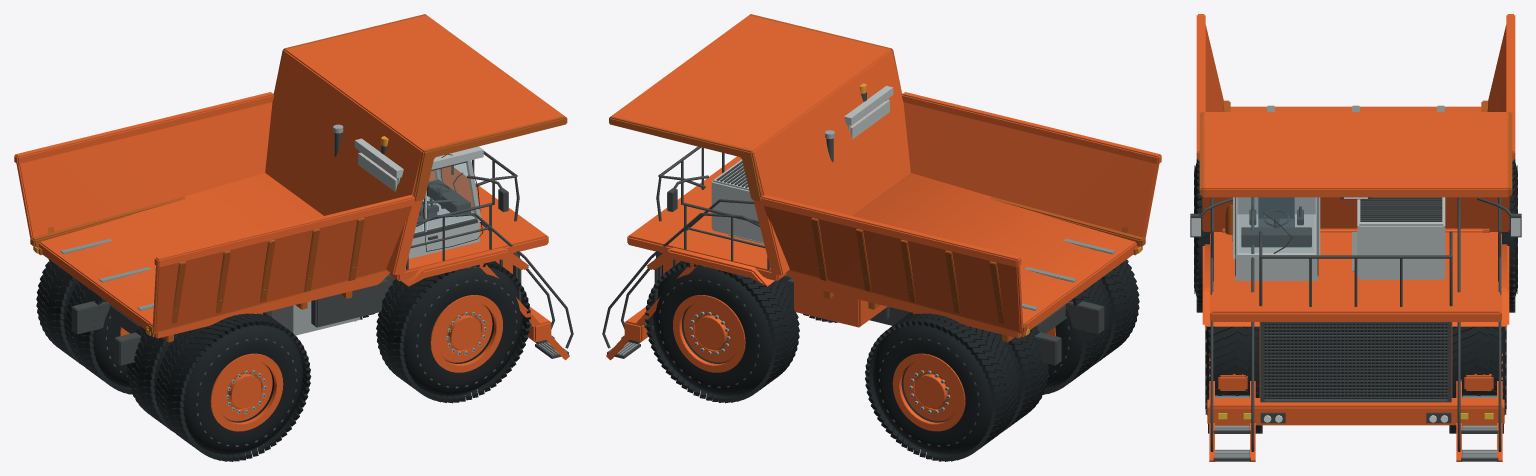
Rendered from truck.glb.
3 renders of one model, left to right at view 1: azimuth 30°, elevation 25°; view 2: azimuth 150°, elevation 25°; view 3: azimuth 270°, elevation 25°, orthographic. The views are drawn at different scales.
Parts seen in each view (by area): view 1: TRUCK / hollow dump body floor sidewalls and overcab canopy, TRUCK / six heavy duty tyre carcasses, TRUCK / 1536 individual chevron tread lugs, TRUCK / deep orange wheel rims and hubs, TRUCK / orange deck bumper and service housings, TRUCK / grey operator cab roof door and seals, TRUCK / front access stairs grated catwalk and grab rails, TRUCK / dump body ribs hinge bosses and wear strips, TRUCK / transparent cab glazing, TRUCK / ladder chassis axles and differential, TRUCK / paired dump lift rams hoses and fluid tanks, TRUCK / operator seat steering pedals and dashboard (+1 smaller); view 2: TRUCK / hollow dump body floor sidewalls and overcab canopy, TRUCK / six heavy duty tyre carcasses, TRUCK / 1536 individual chevron tread lugs, TRUCK / orange deck bumper and service housings, TRUCK / deep orange wheel rims and hubs, TRUCK / front access stairs grated catwalk and grab rails, TRUCK / dump body ribs hinge bosses and wear strips, TRUCK / ladder chassis axles and differential, TRUCK / grey operator cab roof door and seals, TRUCK / mirrors wipers work lamps warning beacons and exting; view 3: TRUCK / hollow dump body floor sidewalls and overcab canopy, TRUCK / orange deck bumper and service housings, TRUCK / radiator grid engine vents and cooling pipes, TRUCK / front access stairs grated catwalk and grab rails, TRUCK / 1536 individual chevron tread lugs, TRUCK / grey operator cab roof door and seals, TRUCK / transparent cab glazing, TRUCK / operator seat steering pedals and dashboard, TRUCK / mirrors wipers work lamps warning beacons and exting, TRUCK / six heavy duty tyre carcasses, TRUCK / dump body ribs hinge bosses and wear strips.
Part boxes in pixels (x1,y1,x2,y2): TRUCK / hollow dump body floor sidewalls and overcab canopy: [14, 14, 567, 338]; TRUCK / six heavy duty tyre carcasses: [51, 267, 522, 454]; TRUCK / 1536 individual chevron tread lugs: [36, 259, 530, 461]; TRUCK / deep orange wheel rims and hubs: [120, 295, 502, 431]; TRUCK / orange deck bumper and service housings: [311, 166, 551, 342]; TRUCK / grey operator cab roof door and seals: [354, 138, 483, 258]; TRUCK / front access stairs grated catwalk and grab rails: [406, 151, 573, 360]; TRUCK / dump body ribs hinge bosses and wear strips: [48, 218, 364, 342]; TRUCK / transparent cab glazing: [415, 163, 475, 231]; TRUCK / ladder chassis axles and differential: [71, 274, 395, 365]; TRUCK / paired dump lift rams hoses and fluid tanks: [272, 301, 360, 335]; TRUCK / operator seat steering pedals and dashboard: [417, 179, 470, 220]; TRUCK / hollow dump body floor sidewalls and overcab canopy: [609, 14, 1161, 338]; TRUCK / six heavy duty tyre carcasses: [653, 267, 1124, 454]; TRUCK / 1536 individual chevron tread lugs: [645, 259, 1139, 461]; TRUCK / orange deck bumper and service housings: [624, 156, 887, 342]; TRUCK / deep orange wheel rims and hubs: [673, 295, 1055, 431]; TRUCK / front access stairs grated catwalk and grab rails: [602, 146, 769, 360]; TRUCK / dump body ribs hinge bosses and wear strips: [728, 218, 1127, 342]; TRUCK / ladder chassis axles and differential: [780, 274, 1104, 365]; TRUCK / grey operator cab roof door and seals: [844, 85, 893, 139]; TRUCK / mirrors wipers work lamps warning beacons and exting: [667, 83, 1142, 337]; TRUCK / hollow dump body floor sidewalls and overcab canopy: [1196, 14, 1515, 232]; TRUCK / orange deck bumper and service housings: [1202, 197, 1509, 425]; TRUCK / radiator grid engine vents and cooling pipes: [1260, 197, 1451, 402]; TRUCK / front access stairs grated catwalk and grab rails: [1209, 197, 1502, 461]; TRUCK / 1536 individual chevron tread lugs: [1194, 159, 1517, 433]; TRUCK / grey operator cab roof door and seals: [1233, 197, 1320, 280]; TRUCK / transparent cab glazing: [1239, 197, 1314, 252]; TRUCK / operator seat steering pedals and dashboard: [1241, 197, 1311, 247]; TRUCK / mirrors wipers work lamps warning beacons and exting: [1190, 197, 1521, 423]; TRUCK / six heavy duty tyre carcasses: [1194, 163, 1517, 414]; TRUCK / dump body ribs hinge bosses and wear strips: [1222, 104, 1489, 271].
Bounding box in the file's own units: 9.48 × 5.65 × 5.84.
